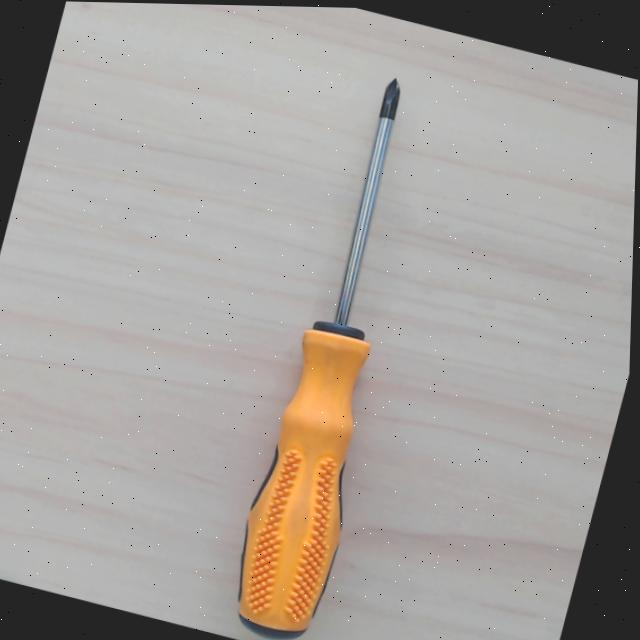Obeng-Besar: (216, 75, 471, 640)
